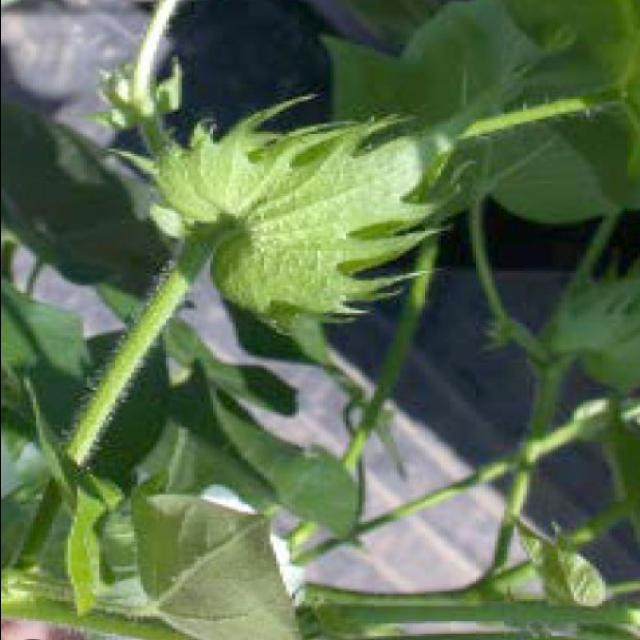Cotton Bud: (162, 102, 458, 317)
